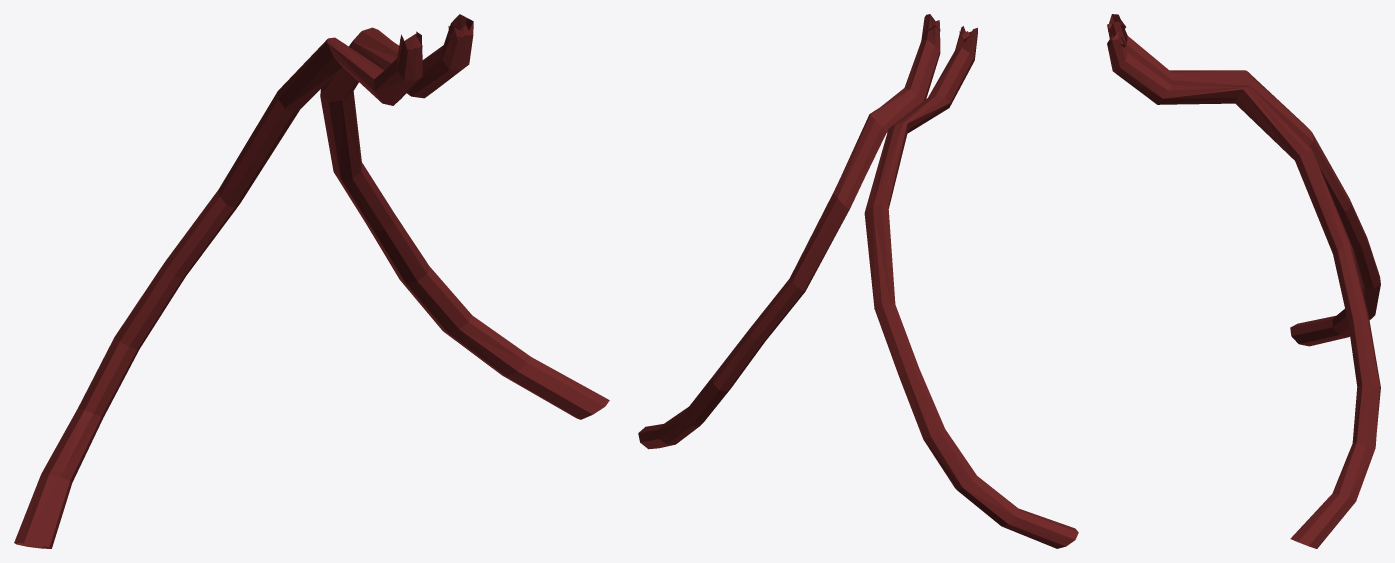
File: Artéria Basilar.FBX
3 renders of one model, left to right at view 1: azimuth 30°, elevation 25°; view 2: azimuth 150°, elevation 25°; view 3: azimuth 270°, elevation 25°, orthographic. The views are drawn at different scales.
Visible parts, largest first — view 1: CS_Arterie; view 2: CS_Arterie; view 3: CS_Arterie.
Part boxes in pixels (x1=…): CS_Arterie: x1=14, y1=14, x2=609, y2=548; CS_Arterie: x1=638, y1=14, x2=1078, y2=548; CS_Arterie: x1=1107, y1=14, x2=1380, y2=548.
Bounding box in the file's own units: 218 × 195 × 114.
